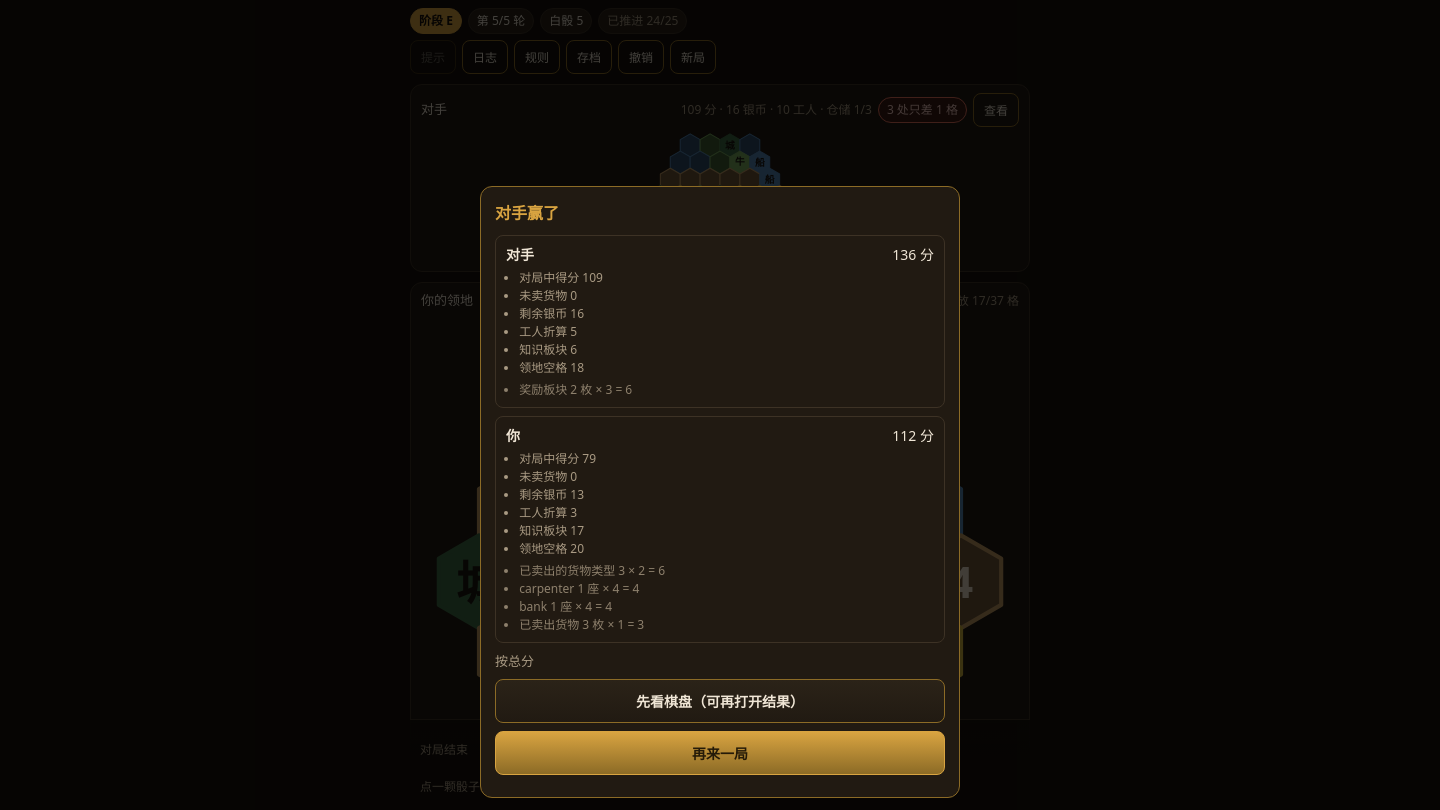
Test case: 真实点击能推动对局 › 交互矩阵：四种局面下到底"哪些东西可以点" › ⑤ 终局面板能收起来看一眼棋盘，也能再打开（原先只有"再来一局"一个出口）
The image size is (1440, 810).
Click the button "先看棋盘（可再打开结果）" at (720, 701), box [495,679,945,723]
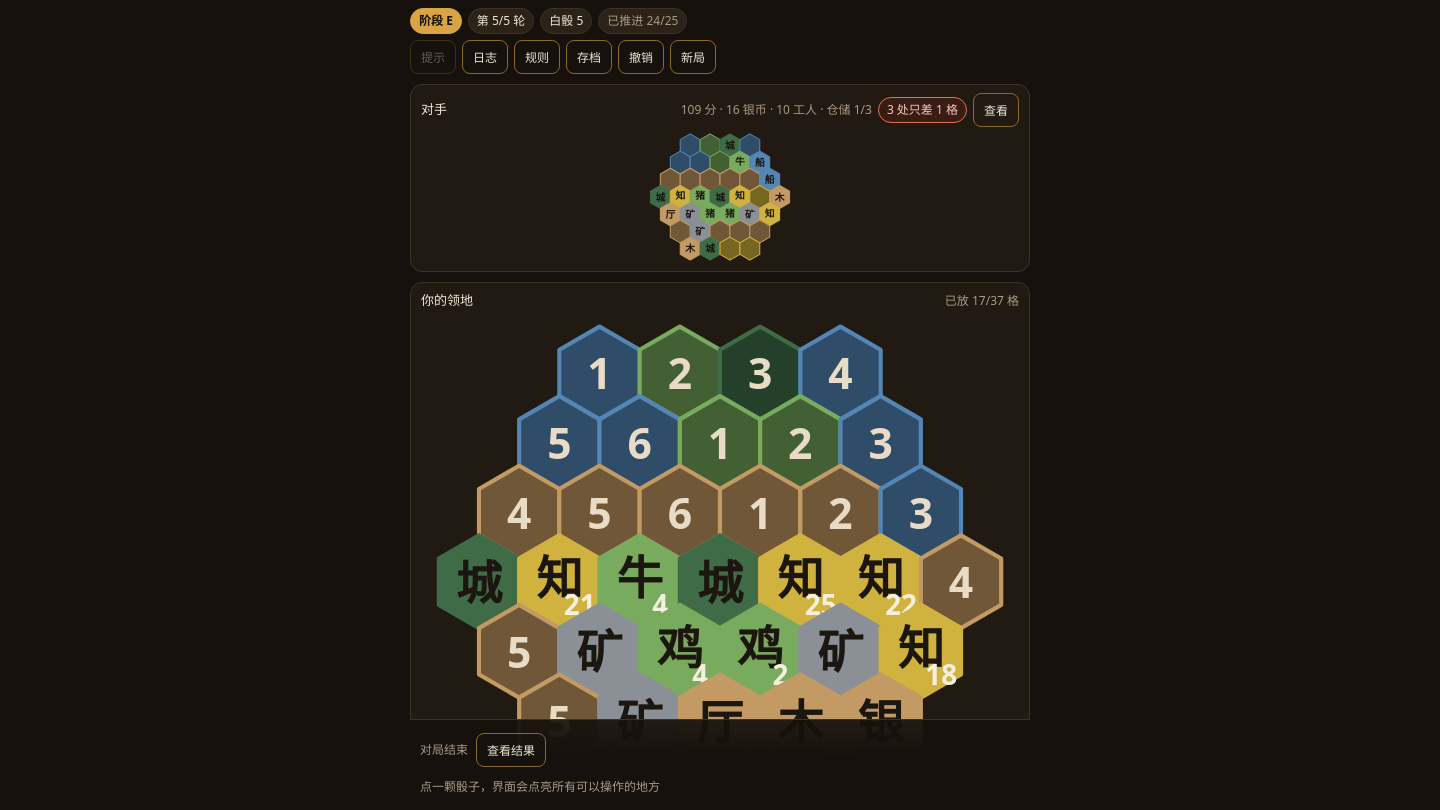
Expected: the 1st picture with class "hexboard" is shown, [421,131,1019,263]
Expected: the button "先看棋盘（可再打开结果）" is gone
//  还能把结果打开
Click the button "查看结果" at (511, 750), box [476,733,546,767]
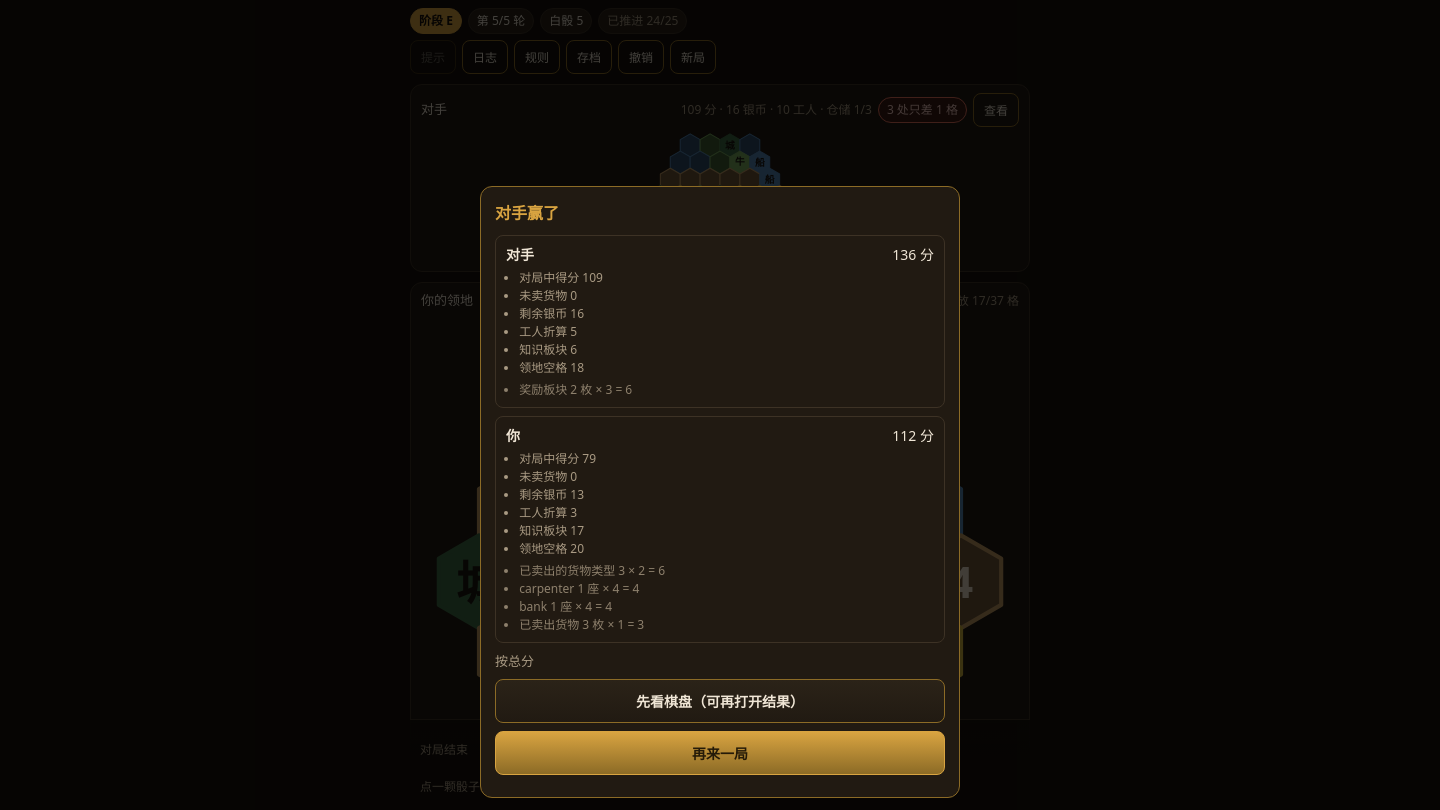
Expected: the button "先看棋盘（可再打开结果）" is shown, [495,679,945,723]
